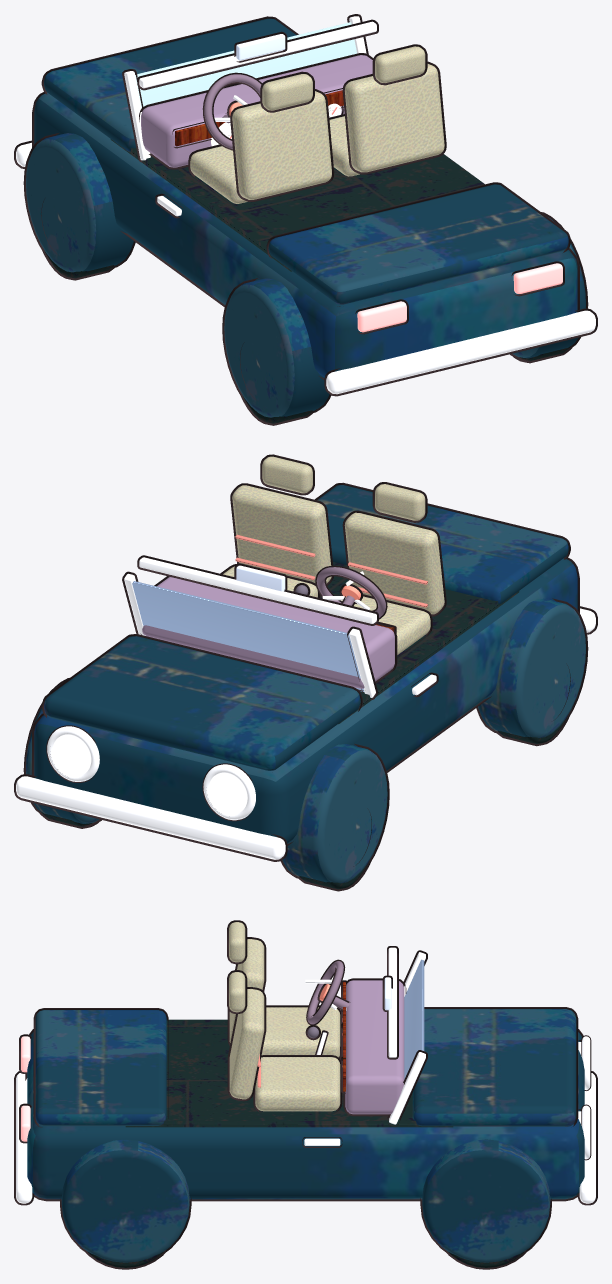
The model's file is utilitaria_cabrio.glb.
The picture shows the model from 3 angles, top to bottom: view 1: azimuth 30°, elevation 25°; view 2: azimuth 150°, elevation 25°; view 3: azimuth 270°, elevation 25°; orthographic projection. The views are drawn at different scales.
Visible parts, largest first — view 1: Cube, Cube.002, Cube.013, Cylinder, Cylinder.001, Cube.001, Cube.021, Cube.015, Cube.004, Cube.026, Cube.012, Cube.011 (+13 smaller); view 2: Cube, Cube.001, Cube.002, Cylinder.001, Cylinder, Cube.012, Cube.021, Cube.015, Cube.003, Cube.026, Cube.013, Cube.011 (+12 smaller); view 3: Cube, Cube.001, Cube.002, Cylinder.002, Cylinder.003, Cube.013, Cube.026, Cube.020, Cube.021, Cube.014, Cube.012, Cube.004 (+12 smaller).
Boxes of the visible parts, left/top/right/bottom form: Cube: left=32, top=92, right=579, bottom=379; Cube.002: left=266, top=182, right=570, bottom=306; Cube.013: left=110, top=139, right=484, bottom=271; Cylinder: left=23, top=132, right=135, bottom=272; Cylinder.001: left=222, top=278, right=331, bottom=417; Cube.001: left=41, top=16, right=298, bottom=151; Cube.021: left=342, top=61, right=446, bottom=174; Cube.015: left=230, top=89, right=334, bottom=201; Cube.004: left=324, top=308, right=597, bottom=396; Cube.026: left=139, top=53, right=373, bottom=169; Cube.012: left=135, top=22, right=356, bottom=107; Cube.011: left=137, top=19, right=378, bottom=90; Cube: left=32, top=557, right=579, bottom=845; Cube.001: left=41, top=634, right=362, bottom=770; Cube.002: left=315, top=482, right=570, bottom=604; Cylinder.001: left=476, top=598, right=588, bottom=737; Cylinder: left=280, top=743, right=389, bottom=883; Cube.012: left=132, top=581, right=364, bottom=691; Cube.021: left=230, top=483, right=333, bottom=585; Cube.015: left=342, top=510, right=446, bottom=616; Cube.003: left=14, top=774, right=287, bottom=861; Cube.026: left=140, top=576, right=397, bottom=690; Cube.013: left=320, top=562, right=519, bottom=724; Cube.011: left=137, top=555, right=378, bottom=625; Cube: left=25, top=1029, right=584, bottom=1201; Cube.001: left=412, top=1007, right=578, bottom=1126; Cube.002: left=33, top=1008, right=168, bottom=1127; Cylinder.002: left=420, top=1139, right=551, bottom=1262; Cylinder.003: left=60, top=1139, right=191, bottom=1262; Cube.013: left=125, top=1019, right=453, bottom=1127; Cube.026: left=343, top=978, right=406, bottom=1116; Cube.020: left=253, top=1055, right=342, bottom=1112; Cube.021: left=227, top=987, right=266, bottom=1101; Cube.014: left=261, top=1005, right=340, bottom=1058; Cube.012: left=404, top=959, right=424, bottom=1079; Cube.004: left=14, top=1071, right=34, bottom=1205.
Size of the model in its own units: 1.93 by 1.7 by 3.56.
Materials: 20 (4 with a texture image).
